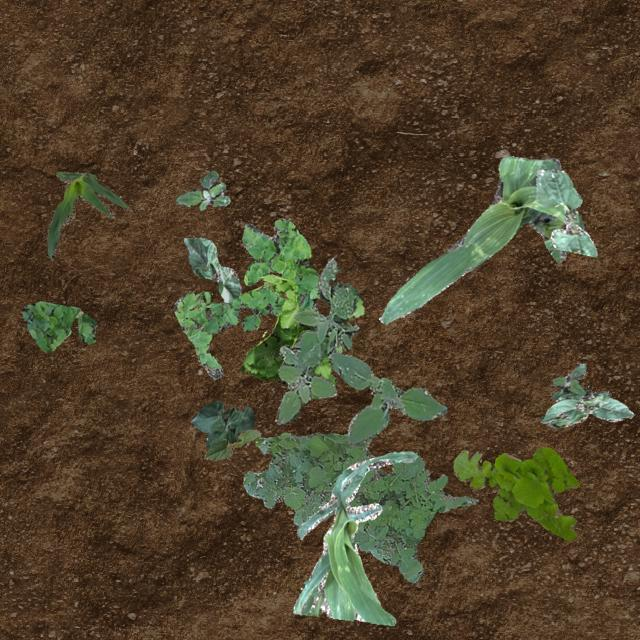crop: (378, 154, 584, 323), (292, 450, 416, 624), (44, 168, 128, 260), (534, 168, 596, 255), (182, 236, 240, 302), (190, 399, 253, 446), (540, 394, 632, 426), (203, 428, 260, 459)
weed: (243, 432, 477, 582), (274, 256, 446, 446), (172, 218, 318, 378), (238, 274, 364, 388), (452, 446, 578, 540), (22, 300, 100, 352), (550, 362, 610, 400), (174, 170, 228, 208)
